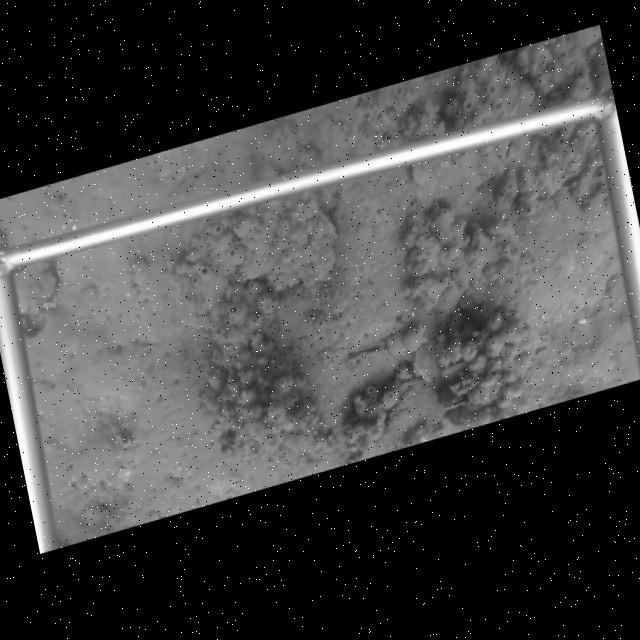Oyster-Closed: (441, 358, 468, 378)
Oyster-Indeterminate: (175, 189, 341, 293), (13, 261, 61, 315)
Oyster-Open: (423, 209, 455, 248), (346, 345, 406, 365), (437, 394, 470, 412)
